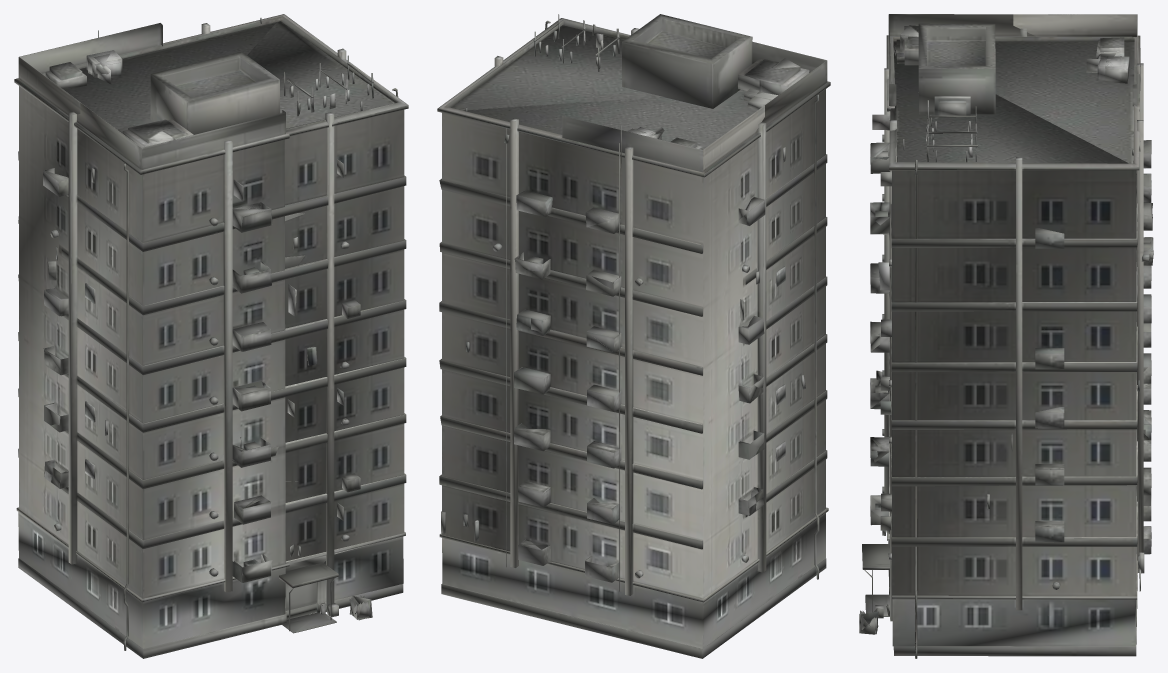
File: khrushchevka.glb
The picture shows the model from 3 angles, left to right: view 1: azimuth 30°, elevation 25°; view 2: azimuth 150°, elevation 25°; view 3: azimuth 270°, elevation 25°; orthographic projection.
Size of the model in its own units: 0.5362 by 0.9526 by 0.4766.
Materials: 1 (1 with a texture image).
